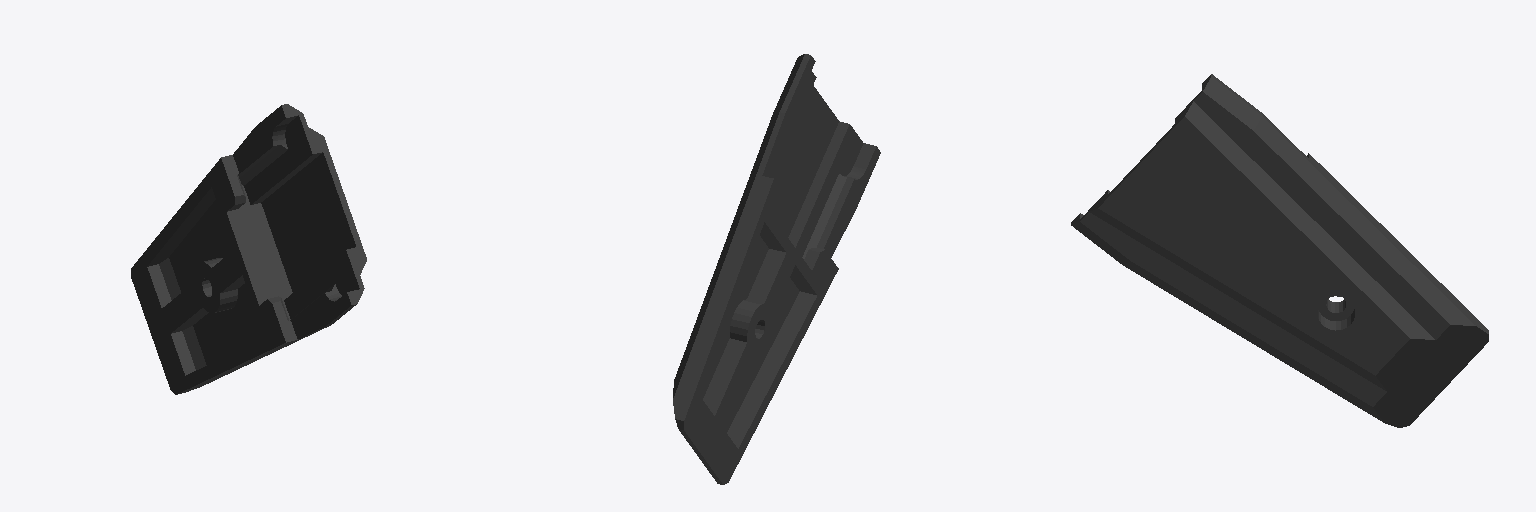
File: right_arm_f1_0.obj
3 renders of one model, left to right at view 1: azimuth 30°, elevation 25°; view 2: azimuth 150°, elevation 25°; view 3: azimuth 270°, elevation 25°, orthographic.
Bounding box in the file's own units: 0.007 × 0.0582 × 0.0619.